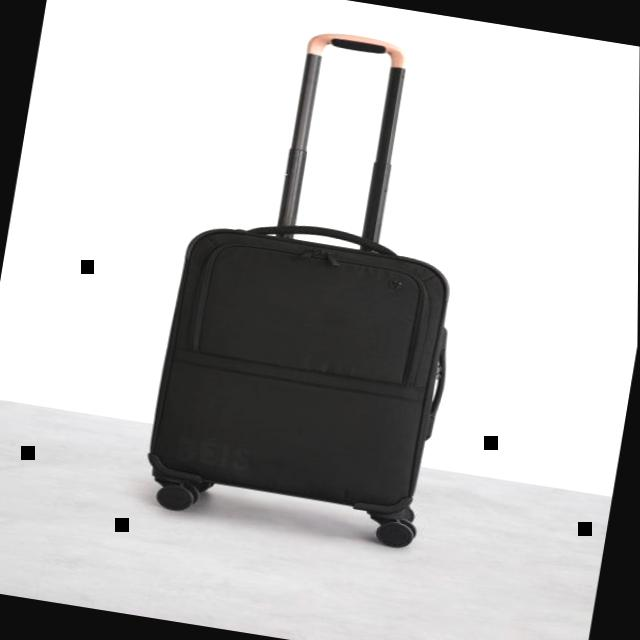luggage: (131, 200, 474, 526)
